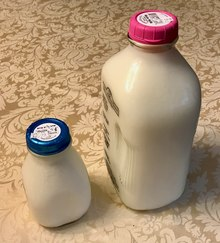glass_bottle: (99, 7, 203, 212), (20, 117, 95, 230)
